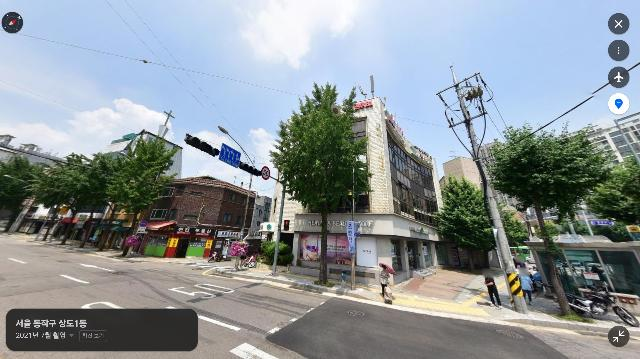other: (483, 117, 622, 318), (267, 80, 378, 286), (84, 134, 178, 254), (31, 152, 115, 246), (437, 171, 499, 276), (0, 154, 50, 239)
